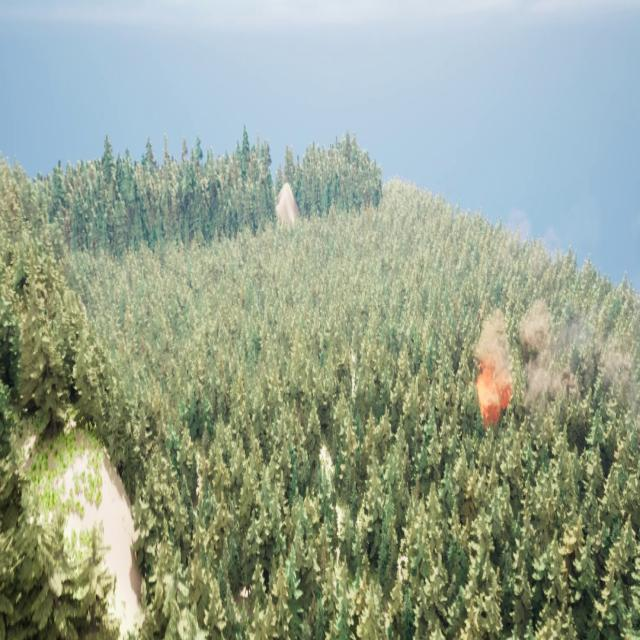fire: (478, 366, 508, 413)
smoke: (476, 301, 640, 409)
